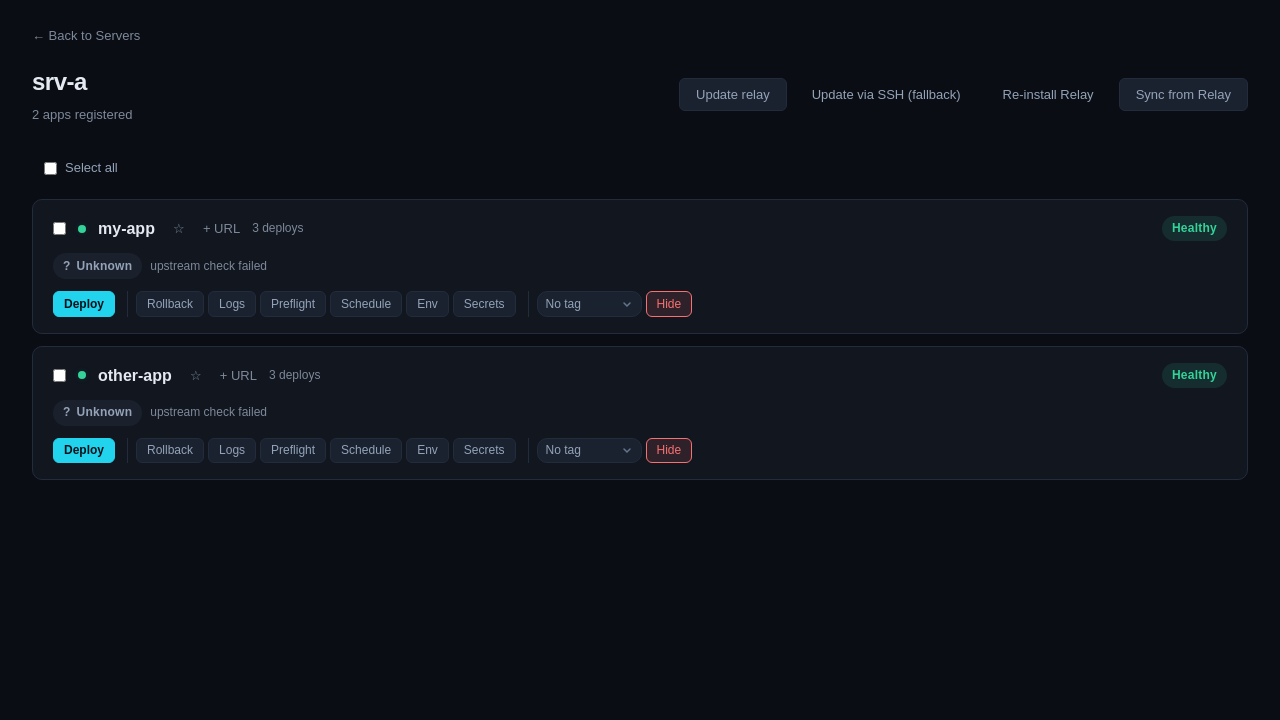
Scenario: ServerDetailPage - blocked deploys › a failed deploy with an unreadable log still gets a line saying no details were recorded
Expected: the text "other-app" is shown, x1=98 y1=362 x2=172 y2=388
What coordinates should you click on to do the following:
click the checkbox named "Select my-app"
I would click on:
 (60, 229)
Its box is x1=53 y1=222 x2=66 y2=235.
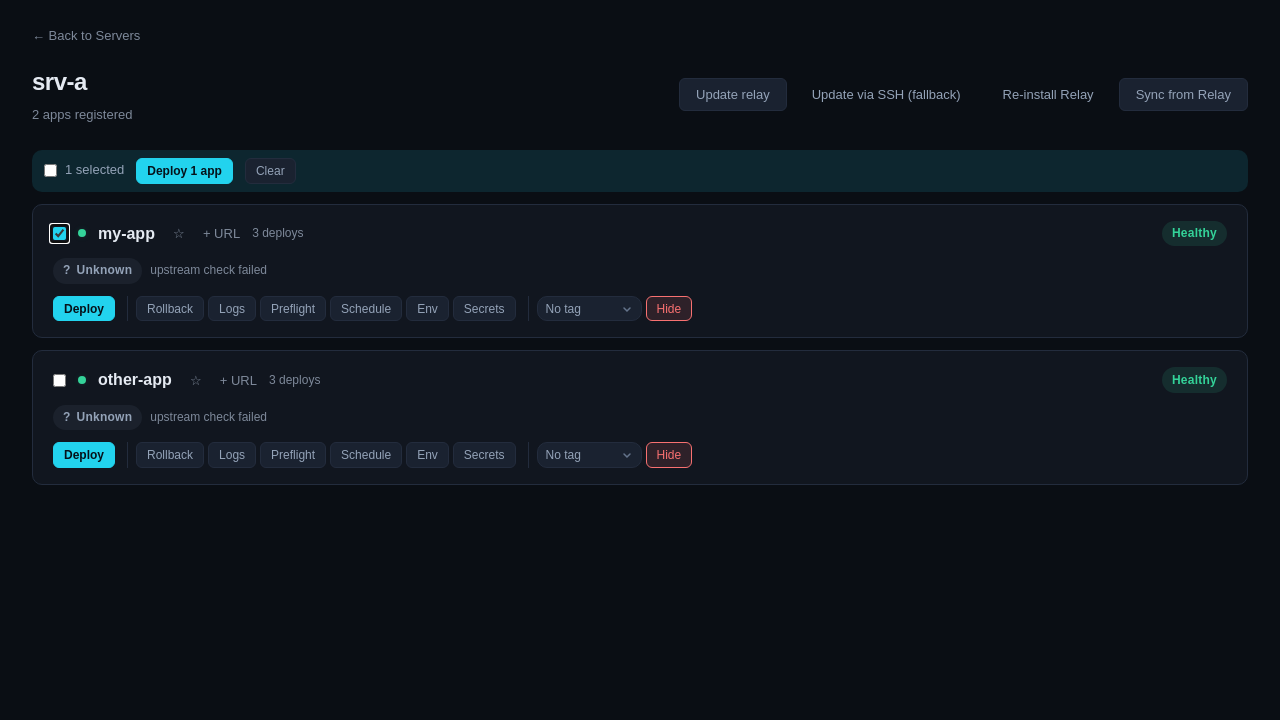
What coordinates should you click on to do the following:
click the checkbox named "Select other-app"
I would click on:
 (60, 380)
Its box is x1=53 y1=374 x2=66 y2=387.
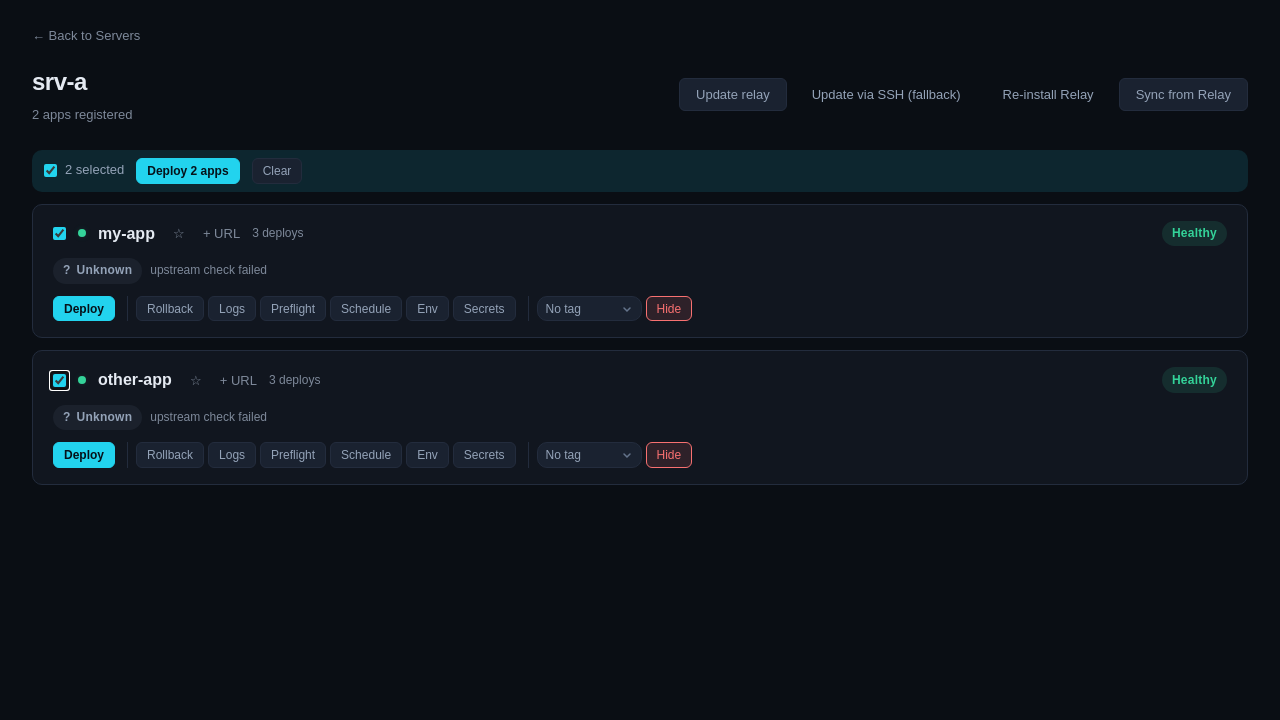
What coordinates should you click on to do the following:
click the button "Deploy 2 apps"
I would click on:
 (188, 171)
Its box is x1=136 y1=158 x2=240 y2=184.
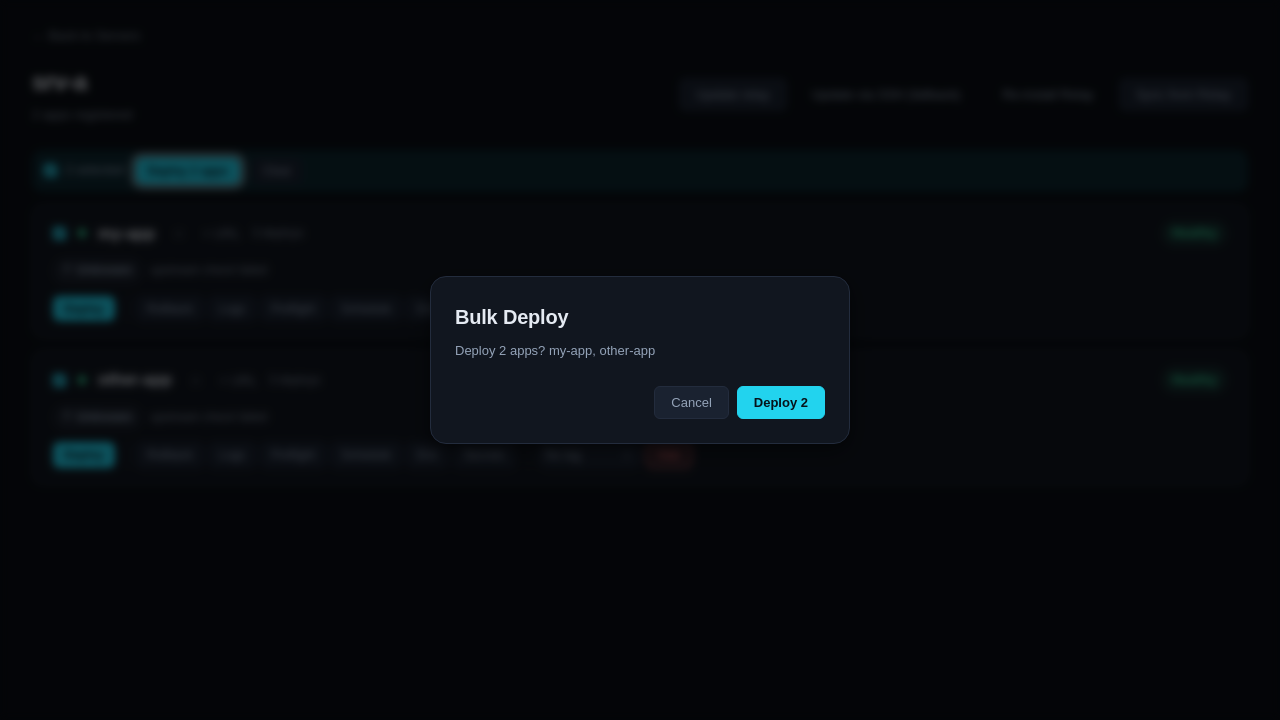
What coordinates should you click on to do the following:
click the button "Deploy 2"
I would click on:
 (781, 402)
Its box is x1=737 y1=386 x2=825 y2=419.
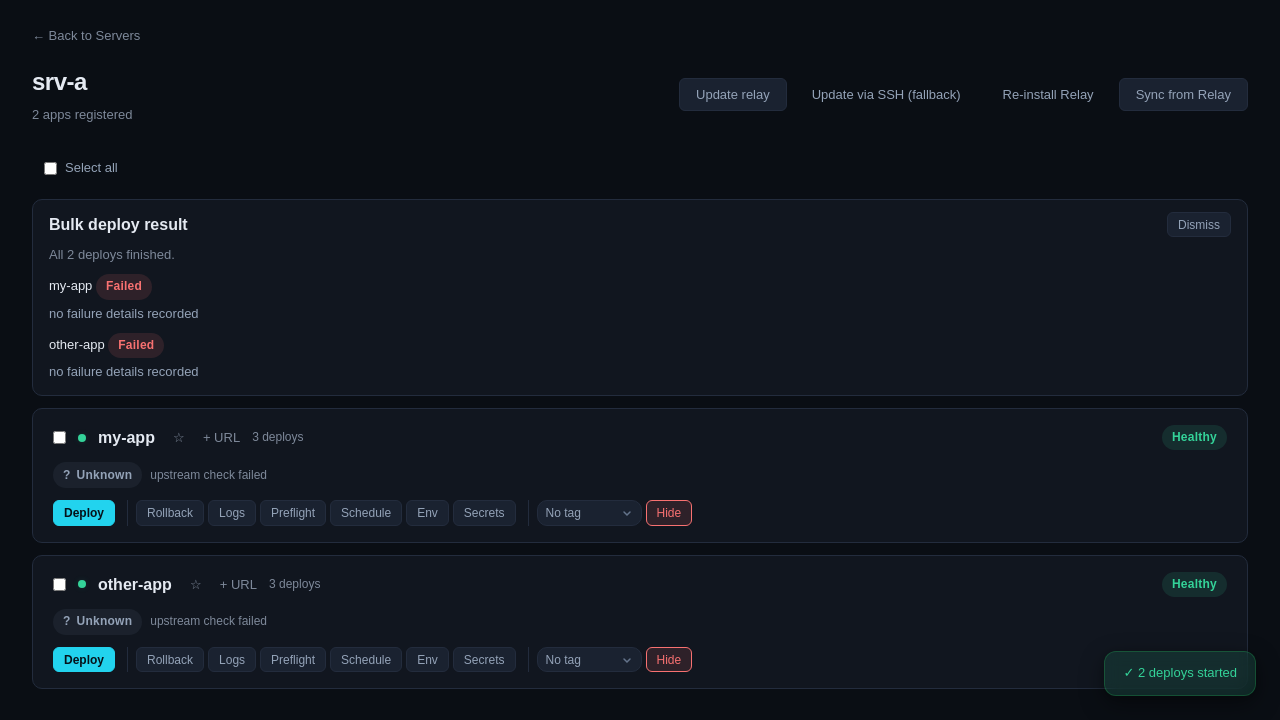
Expected: the element "Bulk deploy result" shows "no failure details recorded", x1=49 y1=306 x2=199 y2=321
